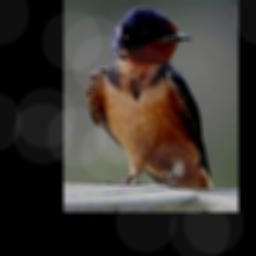Swallow: (86, 4, 213, 189)
